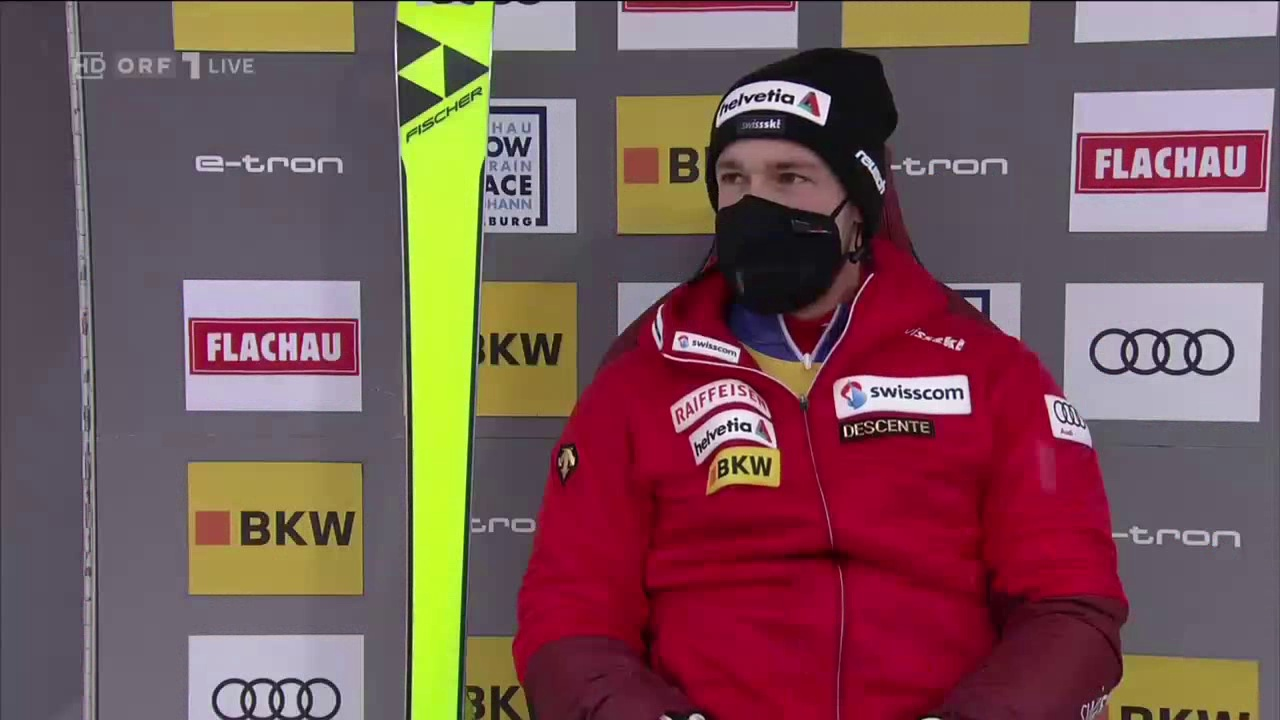BKW: (197, 489, 349, 562), (478, 300, 568, 386)
audi: (1088, 327, 1237, 383), (205, 674, 344, 719), (1047, 395, 1094, 441)
etron: (190, 151, 352, 182), (871, 150, 1011, 182), (1089, 524, 1245, 551), (462, 509, 548, 540)
flachau: (1072, 134, 1271, 196), (187, 317, 358, 378)
